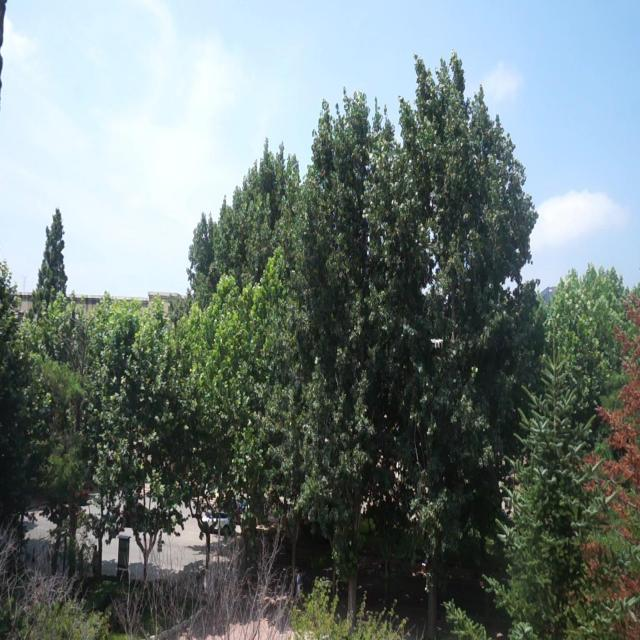UAV: (430, 338, 444, 348)
